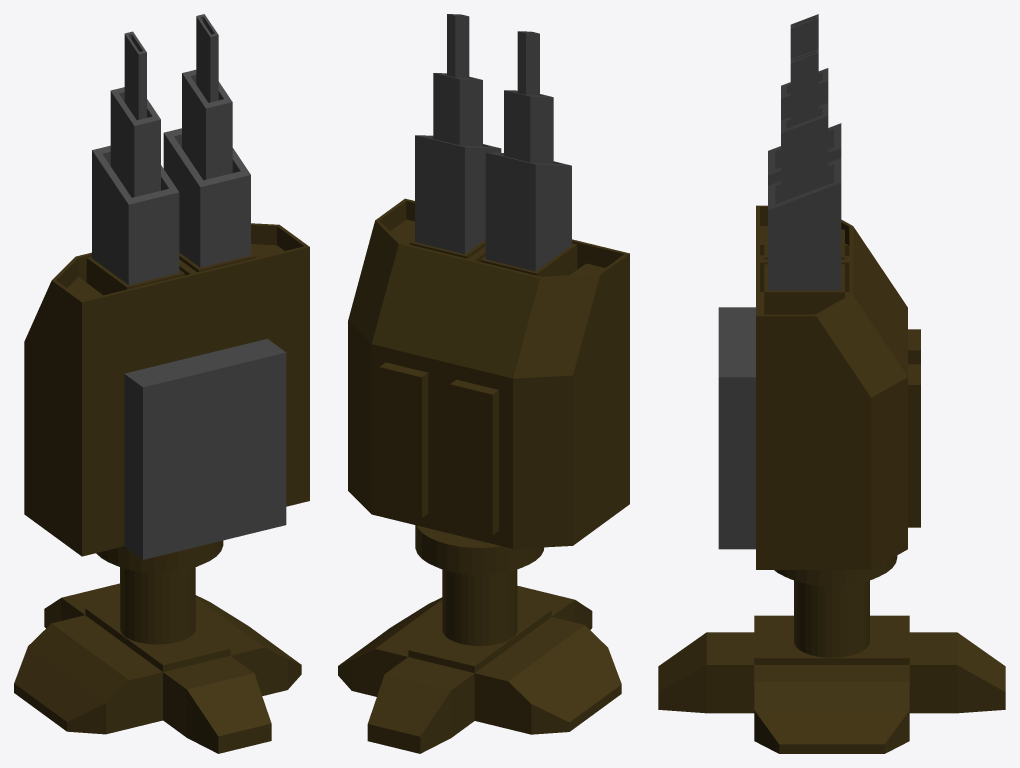
Rendered from turret 1.fbx.
3 renders of one model, left to right at view 1: azimuth 30°, elevation 25°; view 2: azimuth 150°, elevation 25°; view 3: azimuth 270°, elevation 25°, orthographic.
Parts seen in each view (by area): view 1: Cube, Cylinder; view 2: Cube, Cylinder; view 3: Cube, Cylinder.
Part boxes in pixels (x1,y1,x2,y2): Cube: (24, 14, 309, 559); Cylinder: (14, 540, 301, 753); Cube: (348, 14, 629, 548); Cylinder: (338, 525, 621, 753); Cube: (718, 14, 920, 569); Cylinder: (658, 555, 1005, 753).
Bounding box in the file's own units: 348 × 942 × 447.
